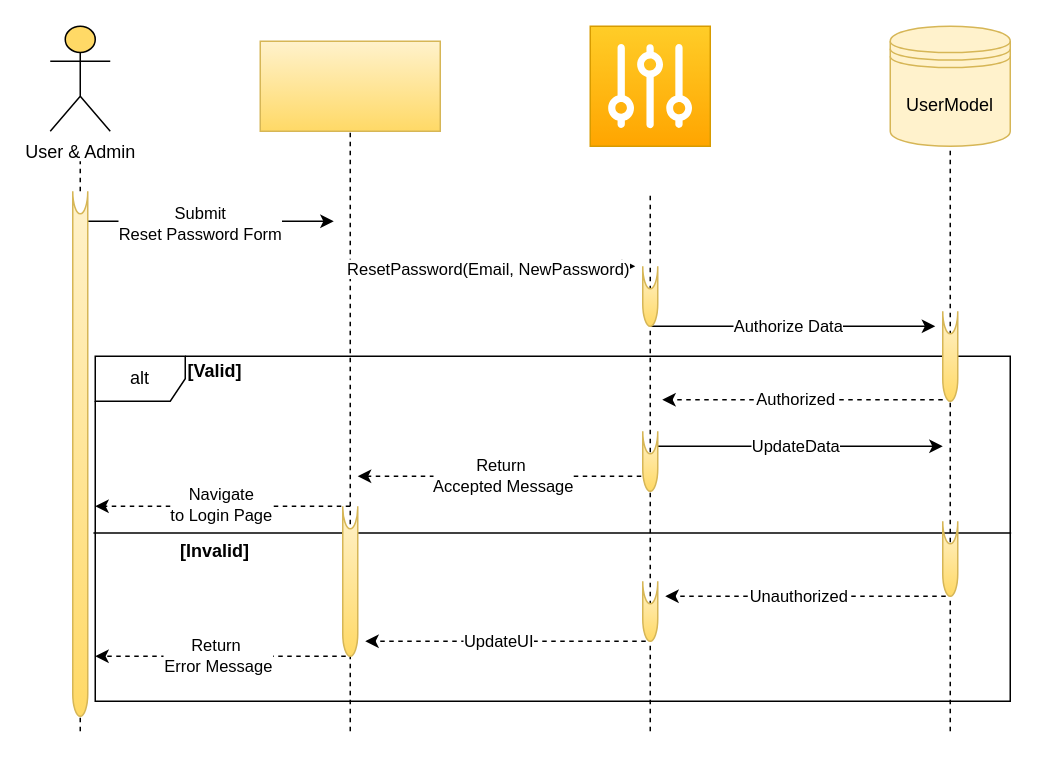
Image size: 1040x759. Some labels were removed from this diagram. Here are the shapes that lost their labels. From the top down, the centre of each, then its label:
At pixel 349 85: "UserView".
At pixel 649 85: "UserController".
